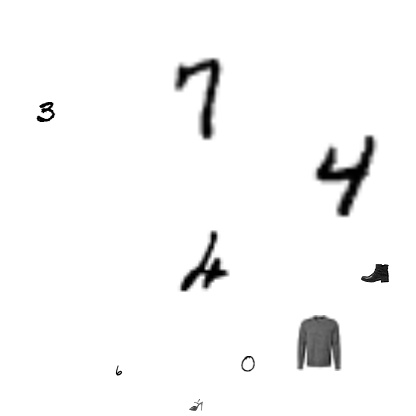0: (237, 352, 259, 374)
3: (32, 98, 60, 126)
4: (289, 116, 401, 228), (163, 225, 247, 309)
6: (111, 365, 125, 379)
7: (147, 31, 259, 143)
Ankle_boot: (361, 259, 389, 287)
Pullover: (291, 315, 347, 371)
Sandal: (189, 398, 203, 412)
